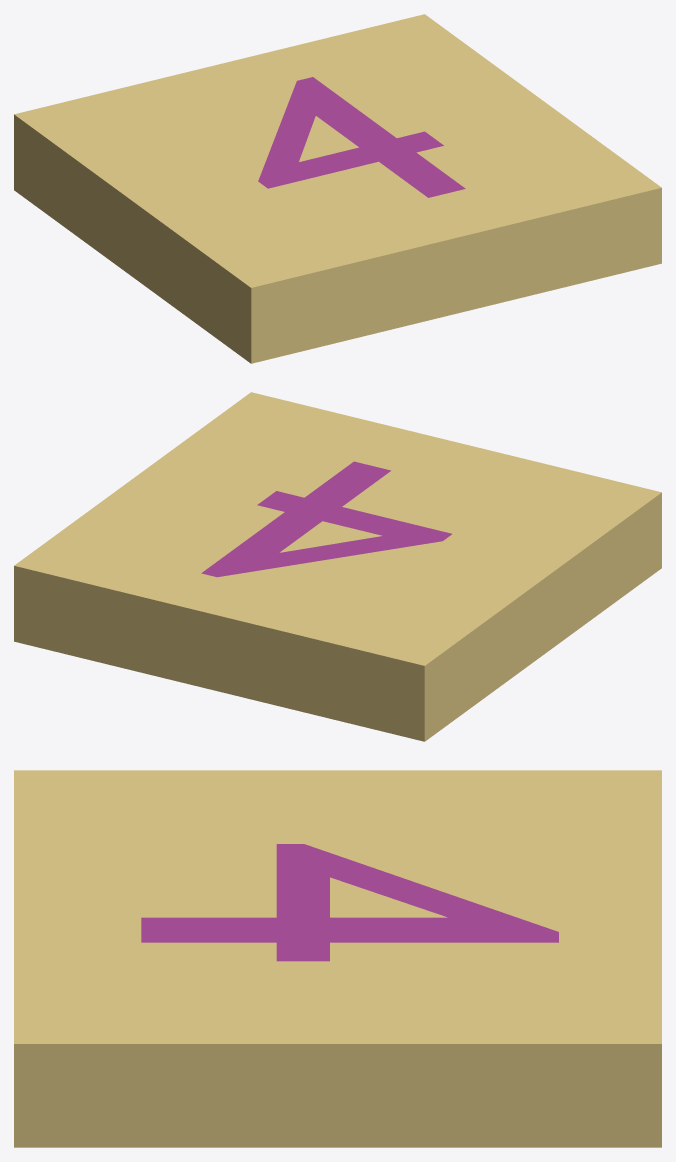
The model's file is Tile.glb.
The picture shows the model from 3 angles, top to bottom: view 1: azimuth 30°, elevation 25°; view 2: azimuth 150°, elevation 25°; view 3: azimuth 270°, elevation 25°; orthographic projection. The views are drawn at different scales.
Parts seen in each view (by area): view 1: Plane, Text.001; view 2: Plane, Text.001; view 3: Plane, Text.001.
Boxes of the visible parts, x1,y1,x2,y2 form: Plane: [14, 14, 661, 363]; Text.001: [258, 77, 465, 197]; Plane: [14, 392, 661, 741]; Text.001: [201, 461, 451, 577]; Plane: [14, 770, 661, 1147]; Text.001: [141, 844, 558, 961].
Size of the model in its own units: 2 by 0.3588 by 2.
